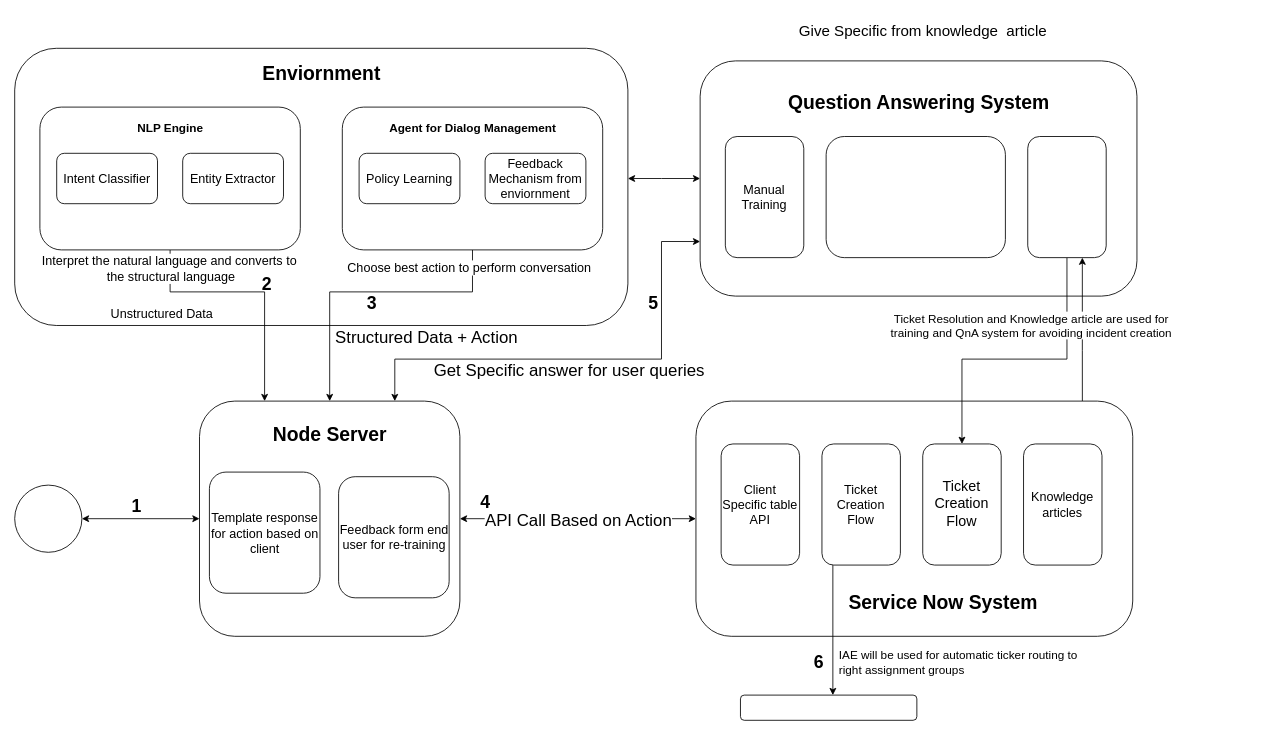
Image size: 1265x735. Some labels were removed from this diagram. Each missing label, with the centre of its shape:
Automated Training: the point at 1066,197
Intelligent Automation Engine: the point at 828,707
Structured Knowledge back for consumption: the point at 915,197
USER: the point at 48,518
